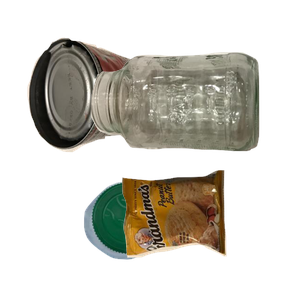glass: (88, 50, 300, 194)
metal: (25, 35, 189, 180)
plastic: (81, 179, 239, 300)
trash: (120, 168, 300, 300)
